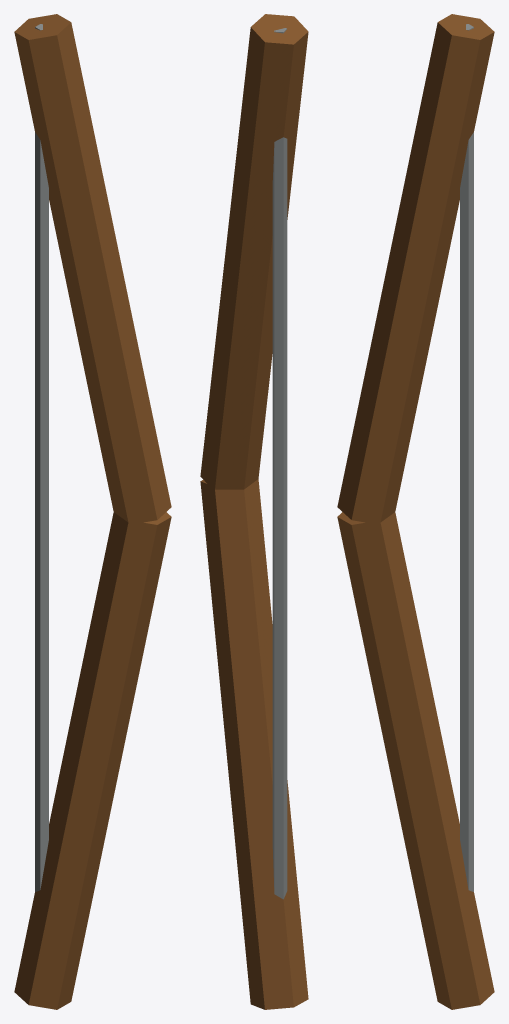
Rendered from pieza-villager-bow-psyk5Ged.glb.
3 views of the same model, side by side, from view 1: azimuth 90°, elevation 25°; view 2: azimuth 210°, elevation 25°; view 3: azimuth 270°, elevation 25° (orthographic).
Parts seen in each view (by area): view 1: prop_bow; view 2: prop_bow; view 3: prop_bow.
Part boxes in pixels (box(x1,y1,x2,y2)): prop_bow: box(14, 14, 171, 1009); prop_bow: box(200, 14, 308, 1009); prop_bow: box(337, 14, 494, 1009).
Size of the model in its own units: 0.2252 by 4.85 by 0.7055.
